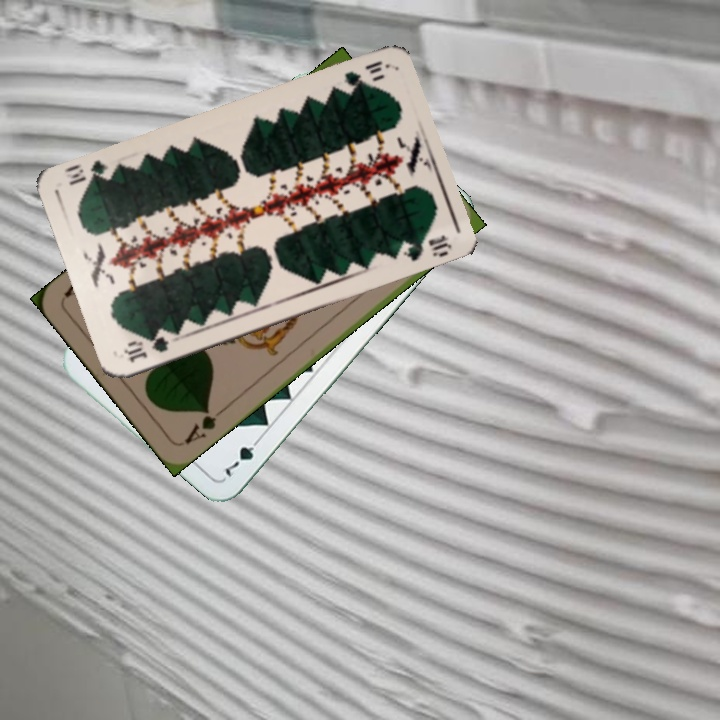G10: (340, 56, 389, 92), (119, 332, 171, 365)
G7: (218, 432, 265, 479)
GA: (180, 403, 228, 447)
